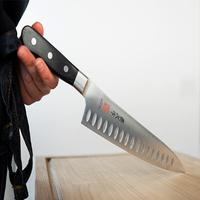knife: (16, 23, 190, 176)
